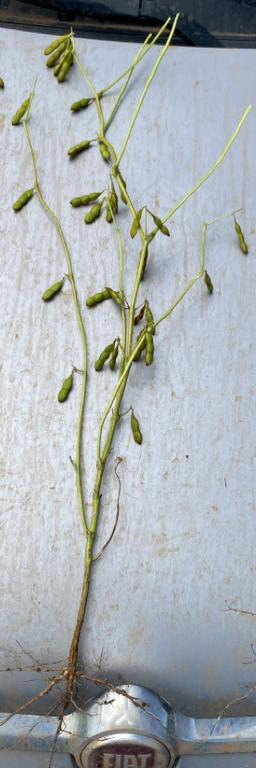pod: (8, 97, 28, 129), (41, 278, 64, 305), (11, 189, 34, 215), (94, 340, 113, 371), (84, 287, 111, 308), (128, 207, 145, 240), (233, 224, 251, 255), (129, 414, 146, 445), (56, 374, 74, 403), (83, 203, 102, 227), (144, 332, 157, 367), (153, 215, 173, 237), (67, 139, 90, 158), (69, 191, 99, 205), (106, 285, 125, 307), (203, 271, 219, 297), (69, 97, 91, 114), (145, 307, 157, 335), (97, 143, 112, 162), (111, 347, 119, 369)
soy: (5, 29, 252, 692)
